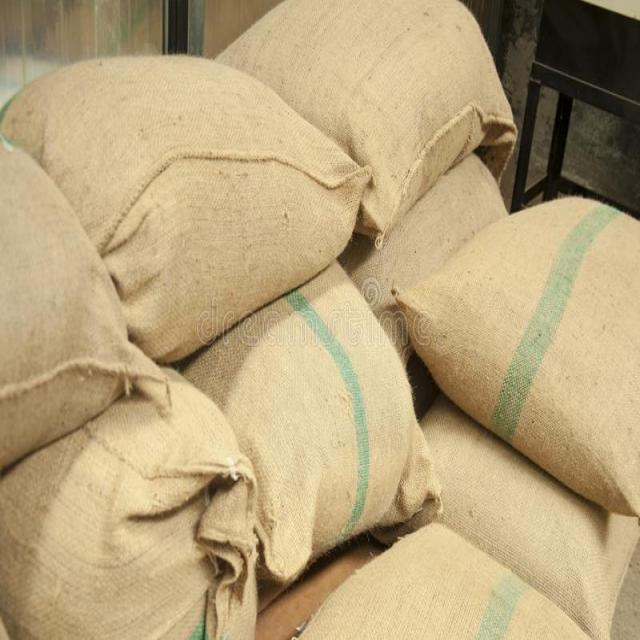gunny_bag: (0, 55, 370, 362), (182, 262, 440, 585), (396, 198, 640, 516), (218, 0, 518, 248), (0, 369, 257, 639), (1, 142, 169, 469), (422, 394, 640, 639)
